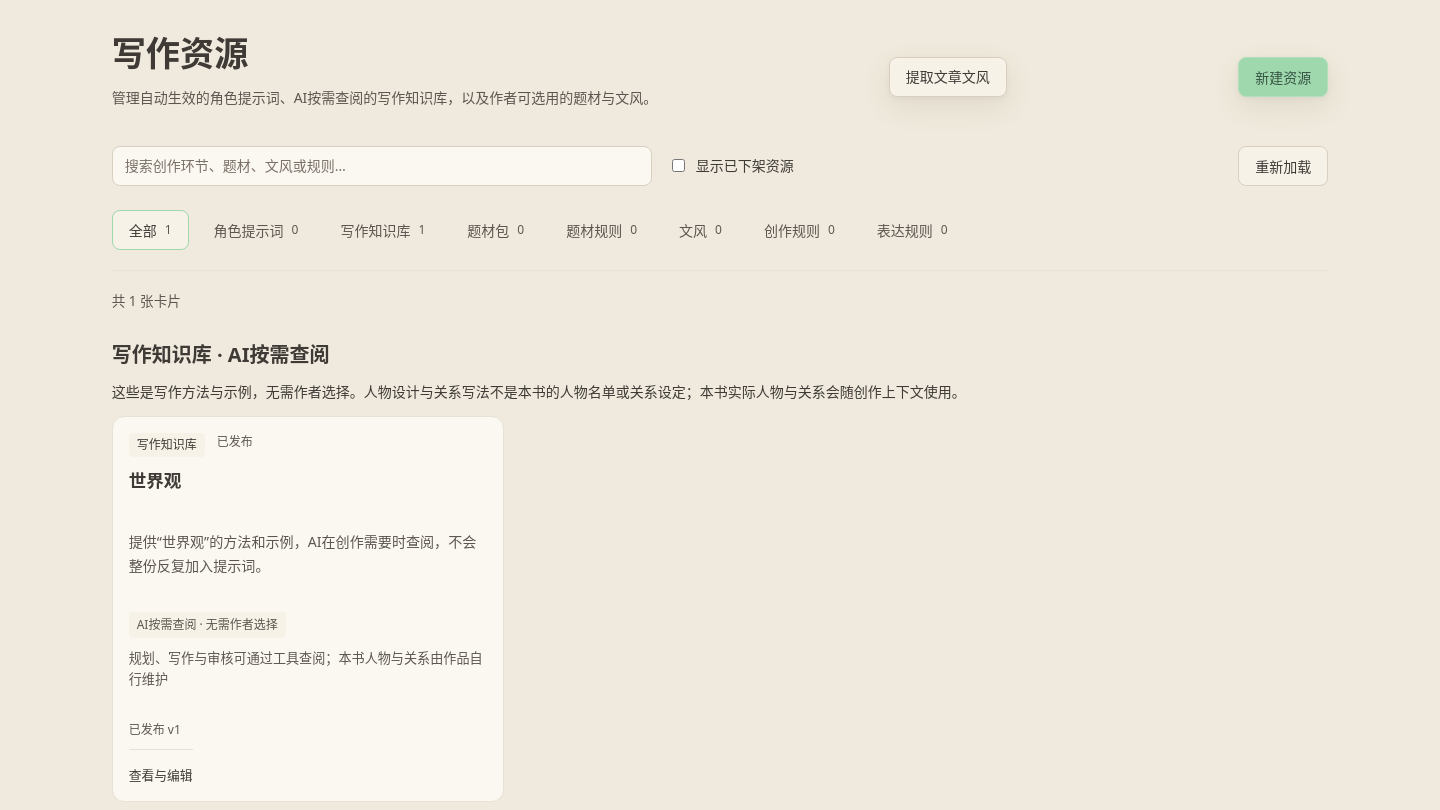
Test: uses reference basename and readable release previews
Click the button with aria-label "编辑 世界观".
click(308, 609)  # box [112,416,504,802]
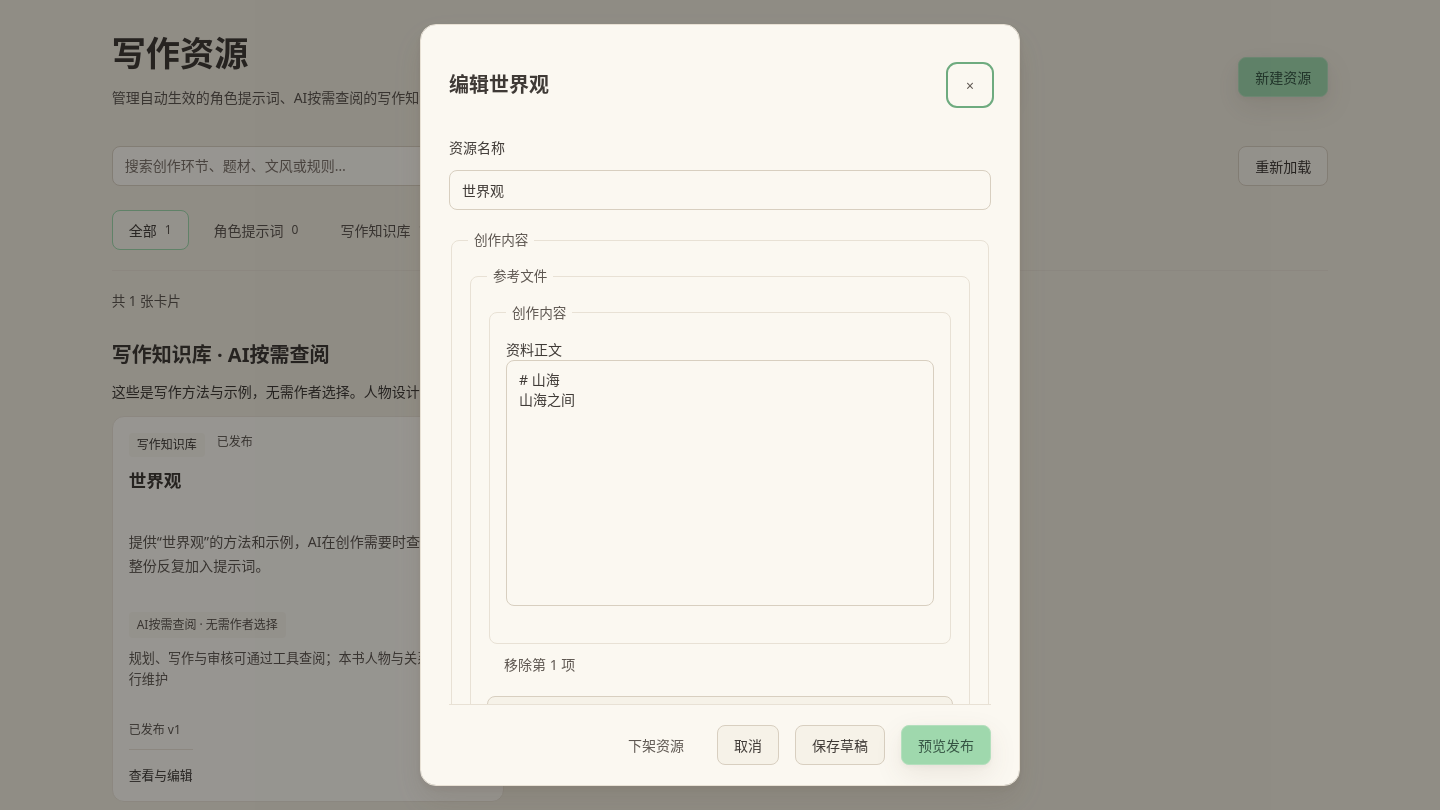
Click the button "预览发布".
click(946, 745)  # box [901,725,991,765]
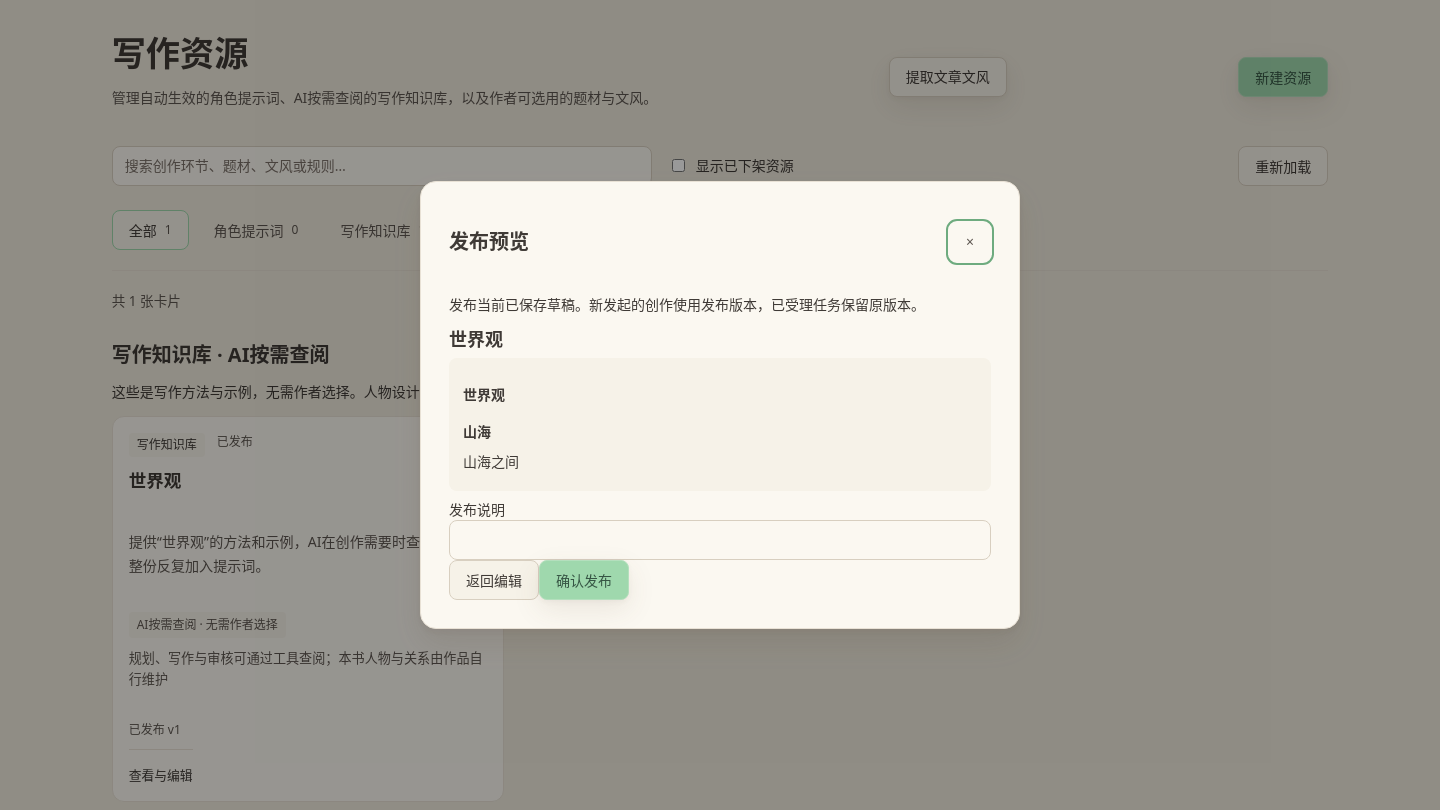
Result: the text "山海之间" is shown at [463,452,519,471]
